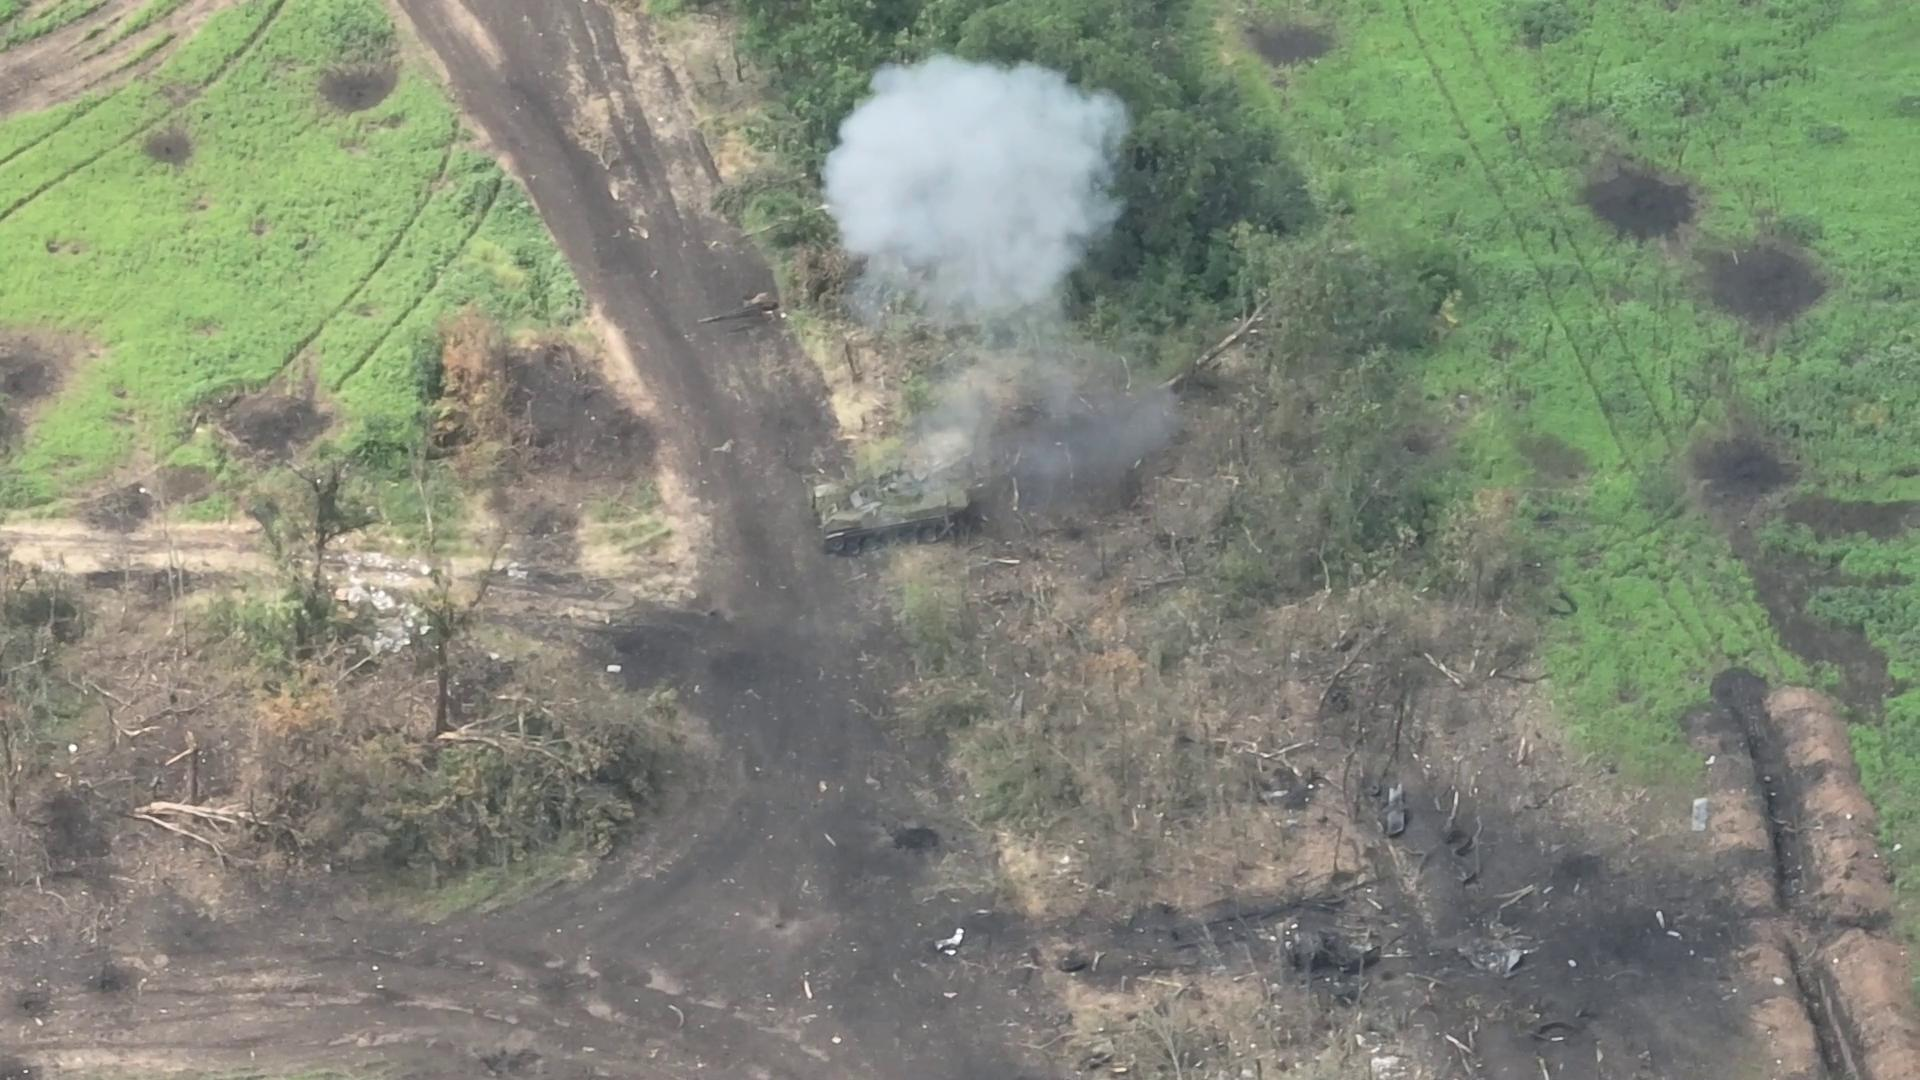tank: (804, 454, 986, 559)
